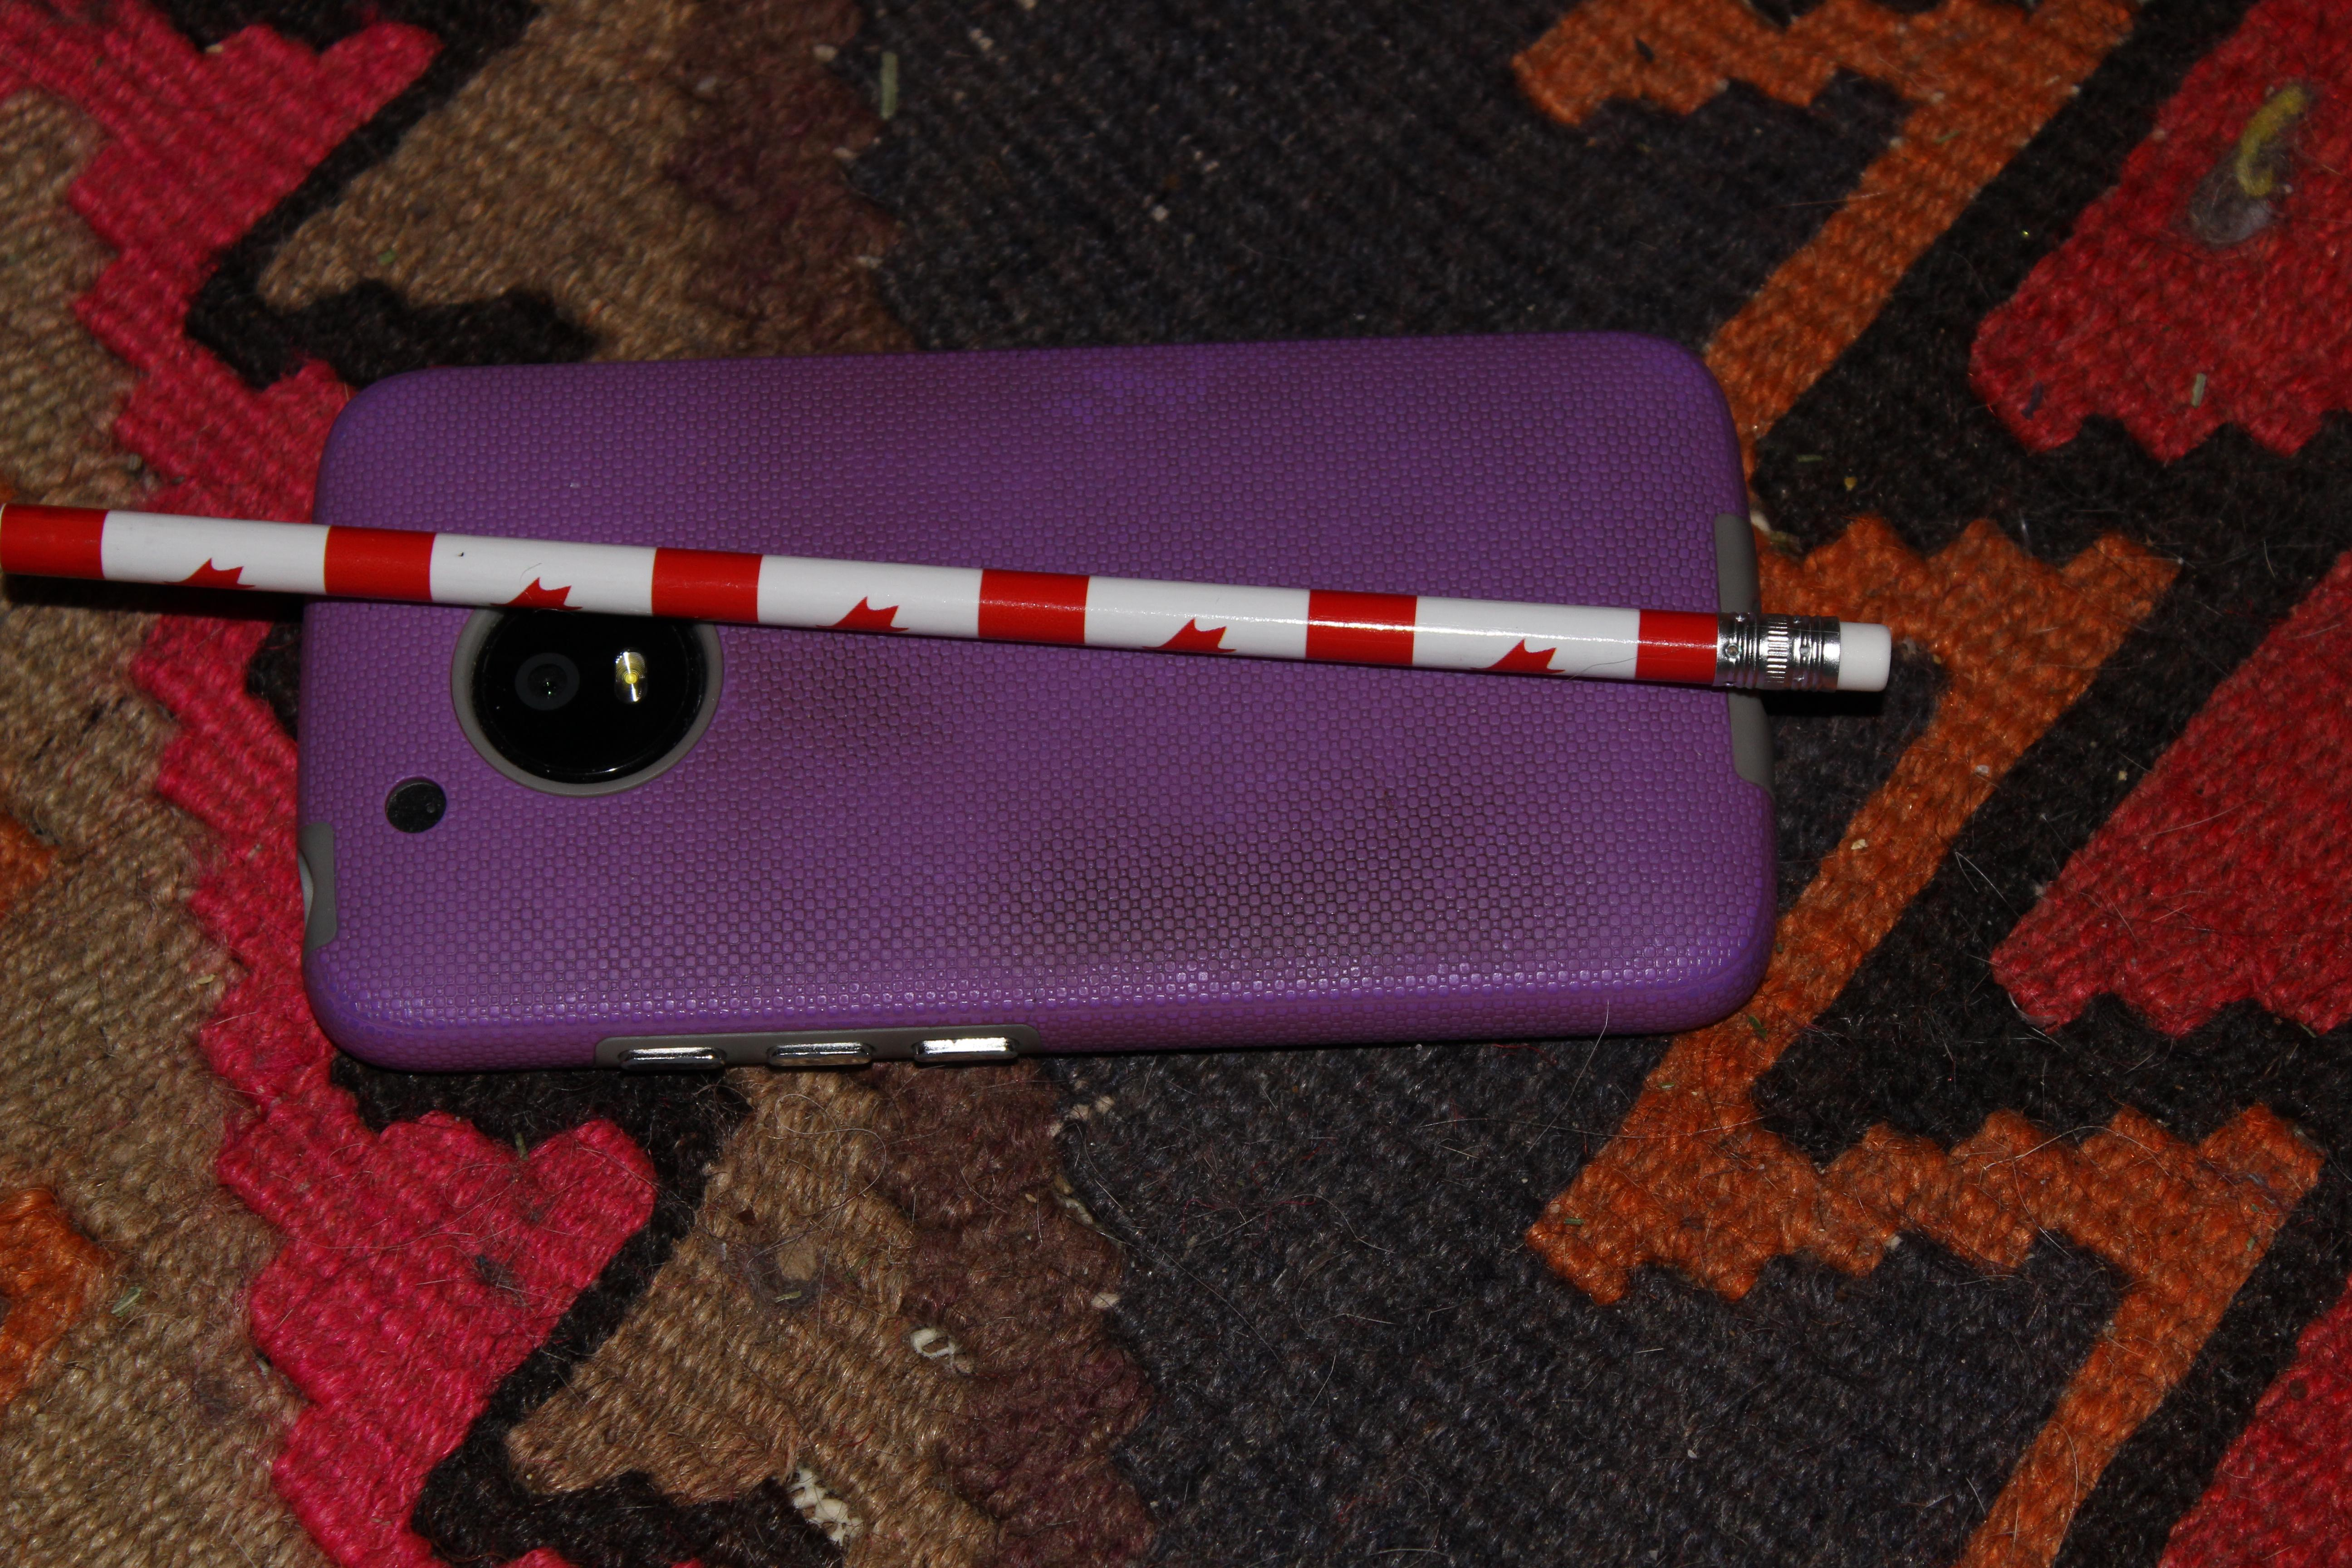canadaPencil: (0, 451, 1934, 753)
